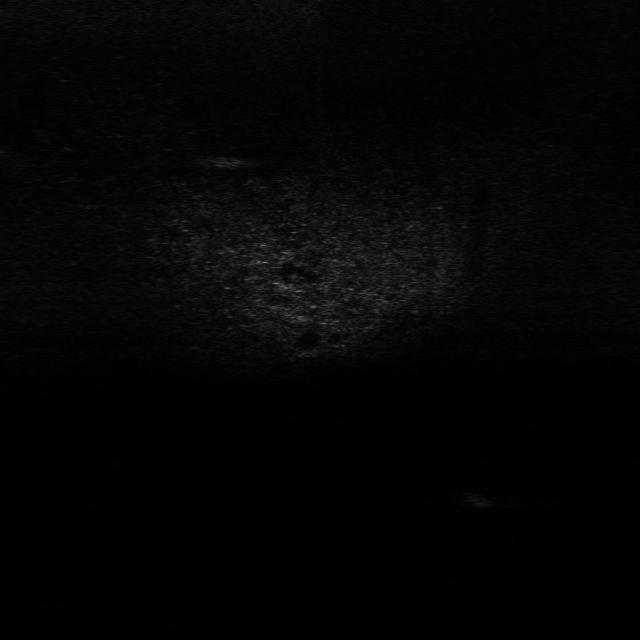cylinder: (457, 492, 497, 509)
